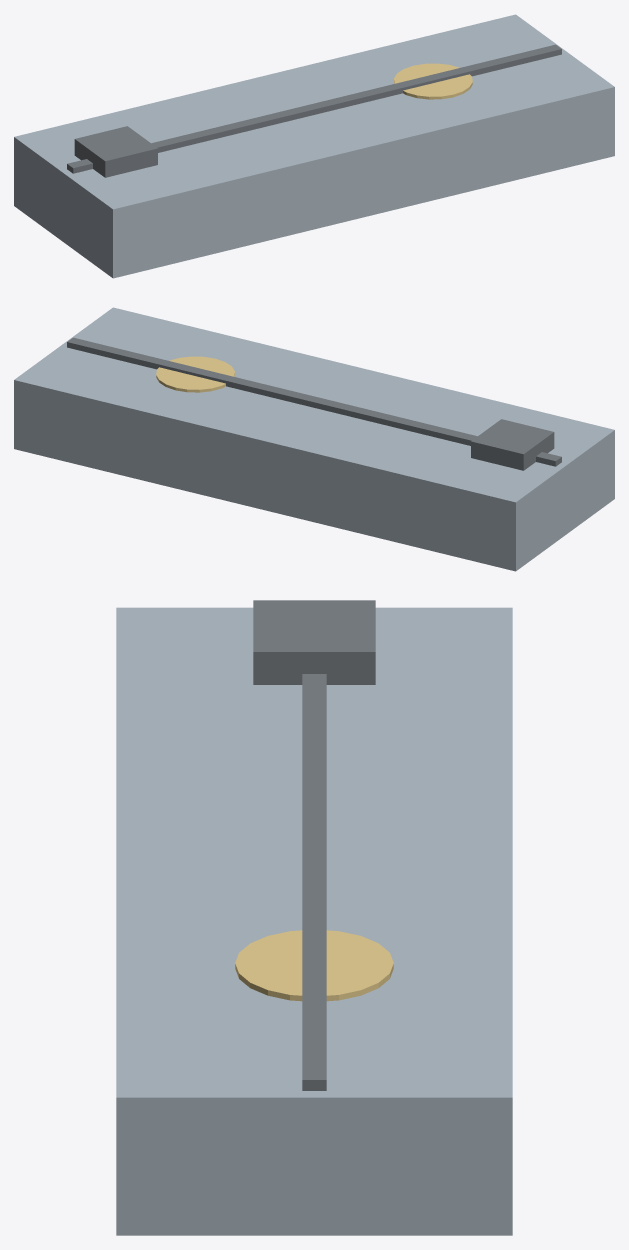
Rendered from item_33_pencil_case.glb.
3 renders of one model, top to bottom at view 1: azimuth 30°, elevation 25°; view 2: azimuth 150°, elevation 25°; view 3: azimuth 270°, elevation 25°, orthographic. The views are drawn at different scales.
Parts seen in each view (by area): view 1: I33_Body, I33_Seam, I33_Clamp, I33_Logo; view 2: I33_Body, I33_Seam, I33_Clamp, I33_Logo; view 3: I33_Body, I33_Seam, I33_Clamp, I33_Logo.
Part boxes in pixels (box(x1,y1,x2,y2)): I33_Body: box(14, 14, 614, 278); I33_Seam: box(67, 44, 561, 173); I33_Clamp: box(74, 126, 157, 177); I33_Logo: box(394, 63, 472, 99); I33_Body: box(14, 307, 614, 571); I33_Seam: box(67, 337, 561, 466); I33_Clamp: box(471, 419, 554, 470); I33_Logo: box(156, 356, 234, 392); I33_Body: box(116, 607, 512, 1235); I33_Seam: box(302, 674, 326, 1090); I33_Clamp: box(253, 600, 375, 684); I33_Logo: box(235, 930, 393, 1001).
Size of the model in its own units: 0.19 by 0.031 by 0.065.
